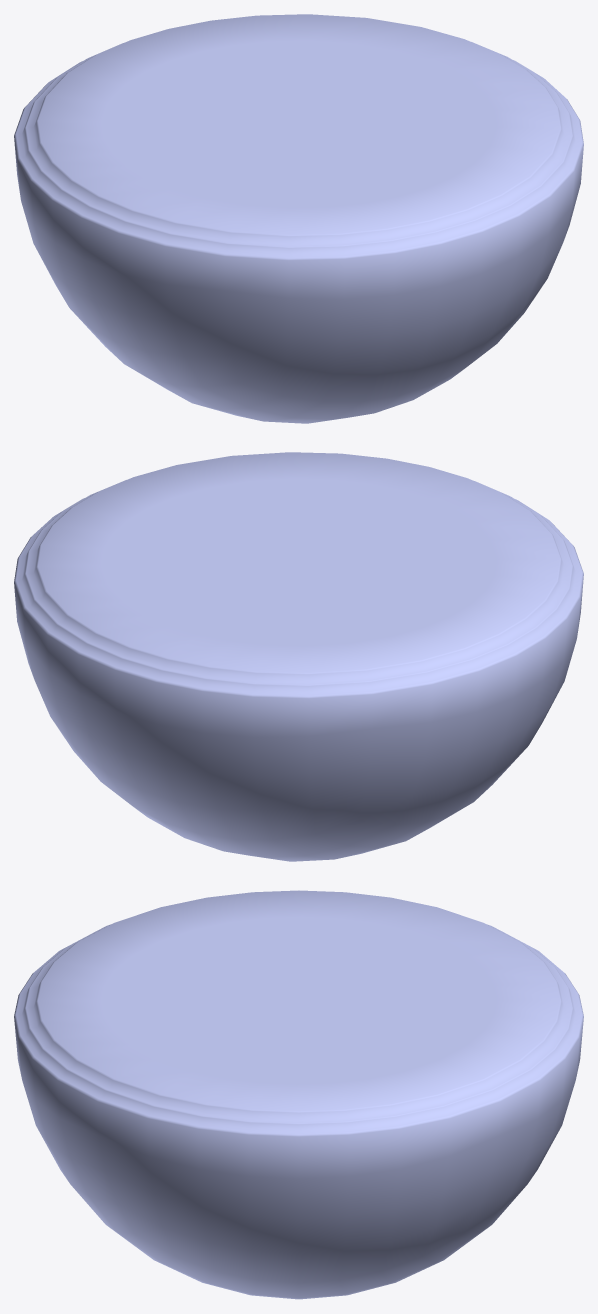
File: Semisphere_L.fbx
3 views of the same model, one above another, from view 1: azimuth 30°, elevation 25°; view 2: azimuth 150°, elevation 25°; view 3: azimuth 270°, elevation 25° (orthographic).
Parts seen in each view (by area): view 1: Semisphere_L; view 2: Semisphere_L; view 3: Semisphere_L.
Part boxes in pixels (<box>): Semisphere_L: <box>14,14,583,423</box>; Semisphere_L: <box>14,452,583,861</box>; Semisphere_L: <box>14,890,583,1299</box>.
Bounding box in the file's own units: 3000 × 1584 × 3000.
